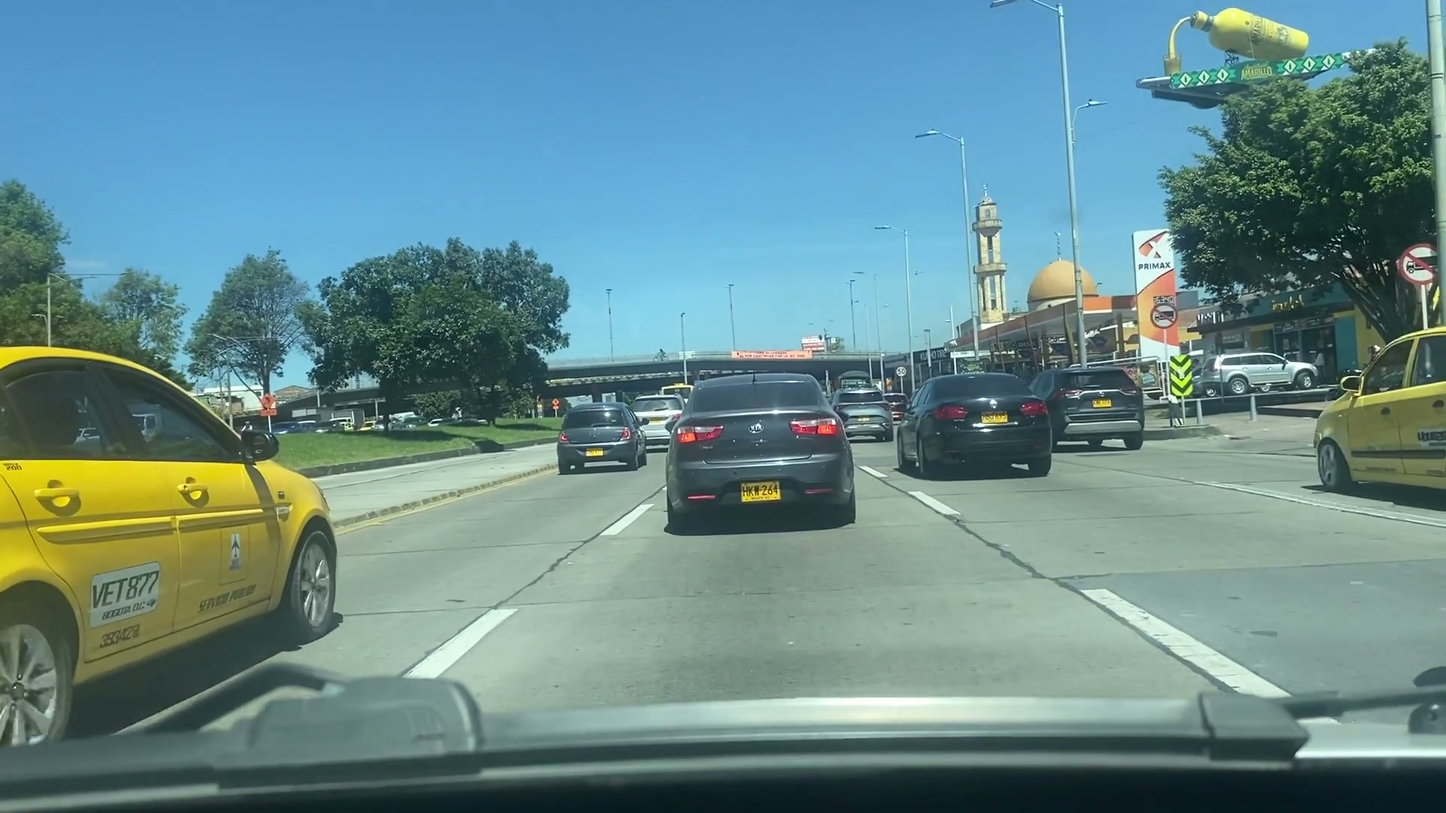car: (0, 342, 341, 755), (663, 373, 856, 526), (1313, 318, 1446, 497), (890, 373, 1054, 476), (1030, 367, 1148, 447), (553, 402, 649, 474), (1203, 349, 1324, 389), (833, 388, 893, 437), (627, 397, 684, 447)
